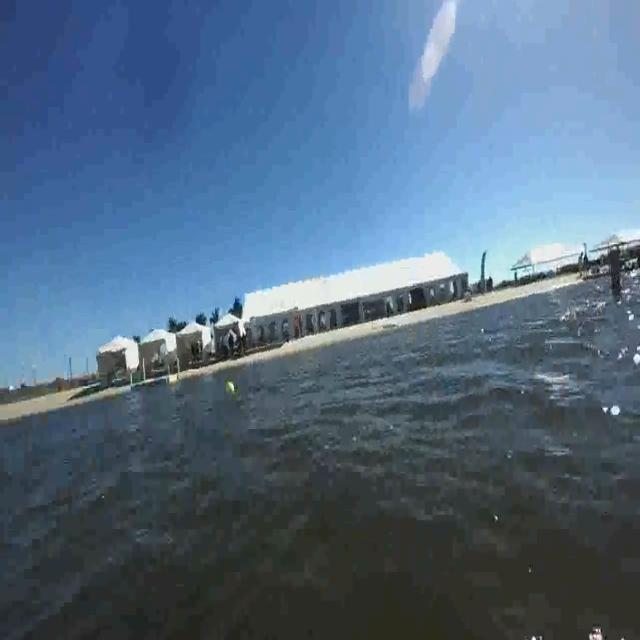yellow-buoy: (224, 379, 236, 396)
